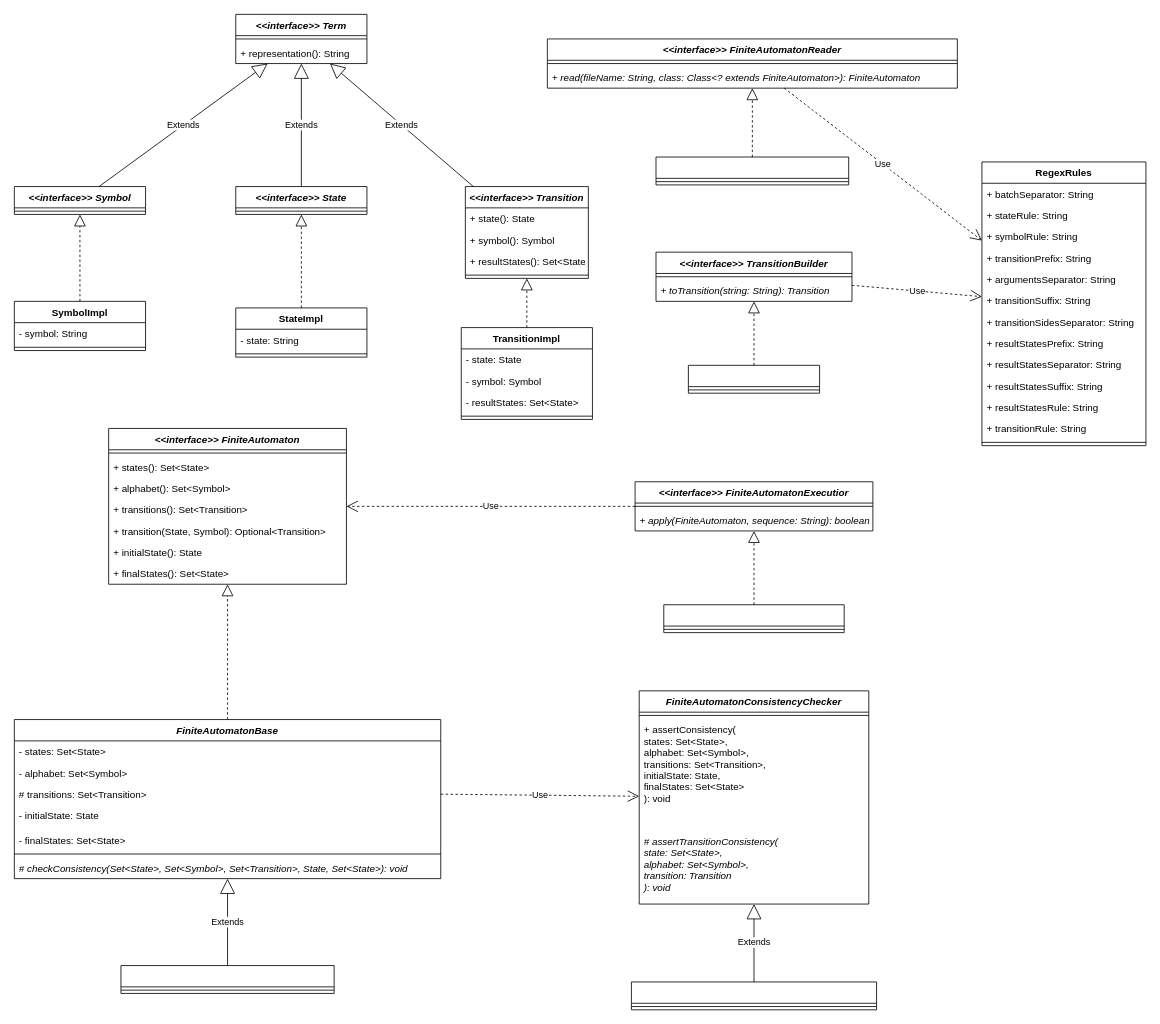
The diagram is 1160 pixels wide and 1024 high, and some of its shapes have lost their labels. Each missing label, with the centre of its shape:
DeterministicFiniteAutomaton: point (227, 979)
DeterministicFiniteAutomatonConsistencyChecker: point (754, 995)
FiniteAutomatonExecutorImpl: point (753, 618)
FiniteAutomatonReaderImpl: point (752, 170)
TransitionBuilderImpl: point (754, 378)
